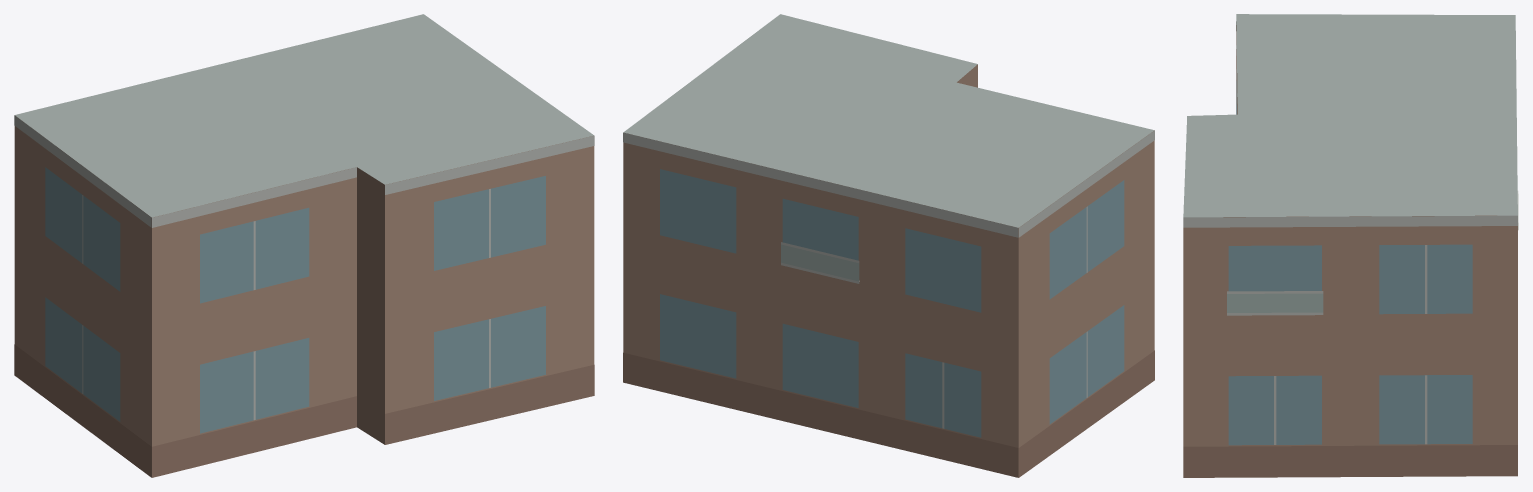
The model's file is survey-upis-32628869.glb.
3 renders of one model, left to right at view 1: azimuth 30°, elevation 25°; view 2: azimuth 150°, elevation 25°; view 3: azimuth 270°, elevation 25°, orthographic. The views are drawn at different scales.
Parts seen in each view (by area): view 1: survey-upis-32628869.tmp; view 2: survey-upis-32628869.tmp; view 3: survey-upis-32628869.tmp.
Boxes of the visible parts, x1,y1,x2,y2 form: survey-upis-32628869.tmp: (14, 14, 594, 477); survey-upis-32628869.tmp: (623, 14, 1154, 477); survey-upis-32628869.tmp: (1183, 14, 1518, 477).
Bounding box in the file's own units: 10.24 × 6.1 × 7.13.
